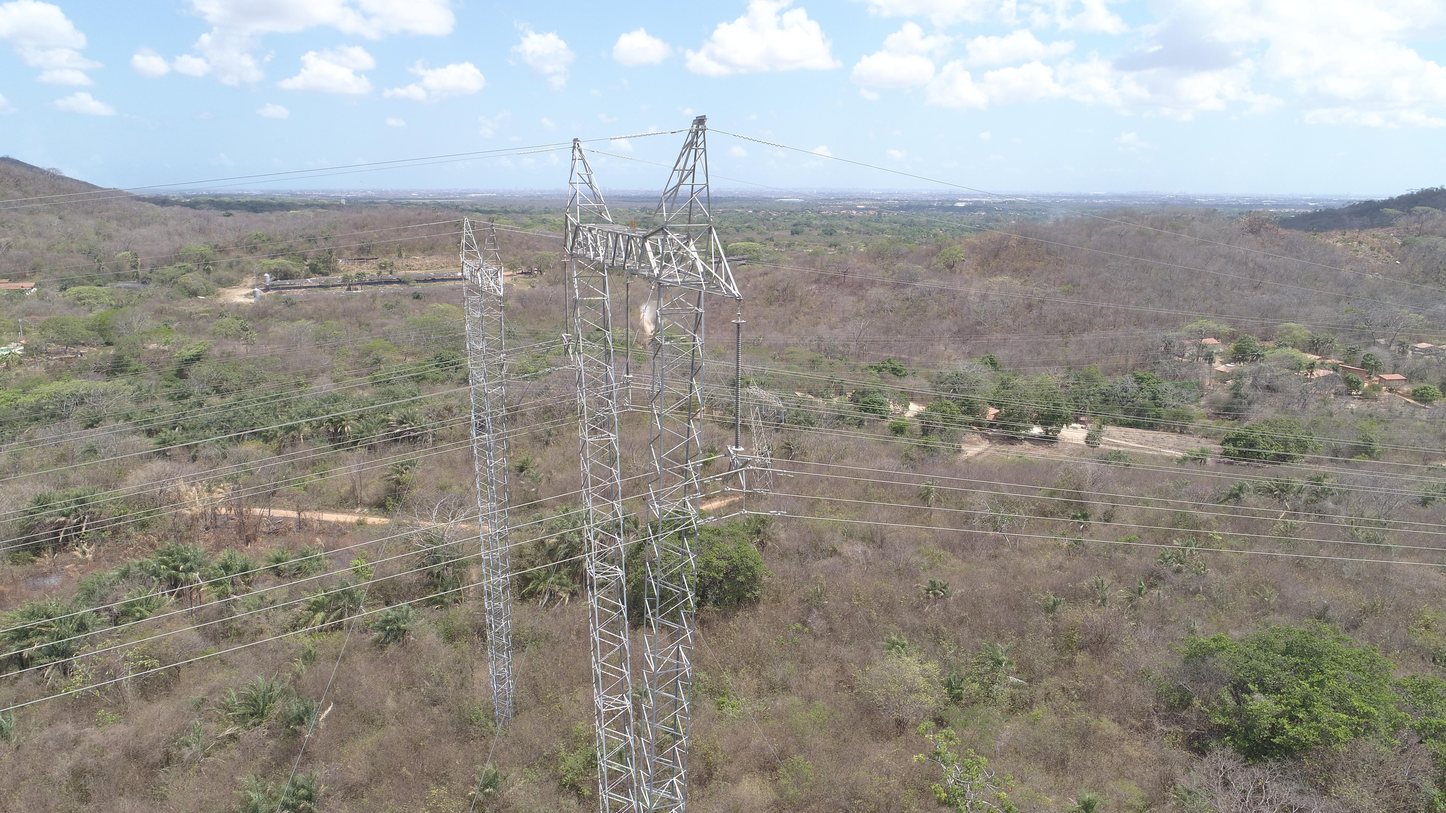power_tower: (561, 112, 751, 813), (455, 213, 537, 724)
